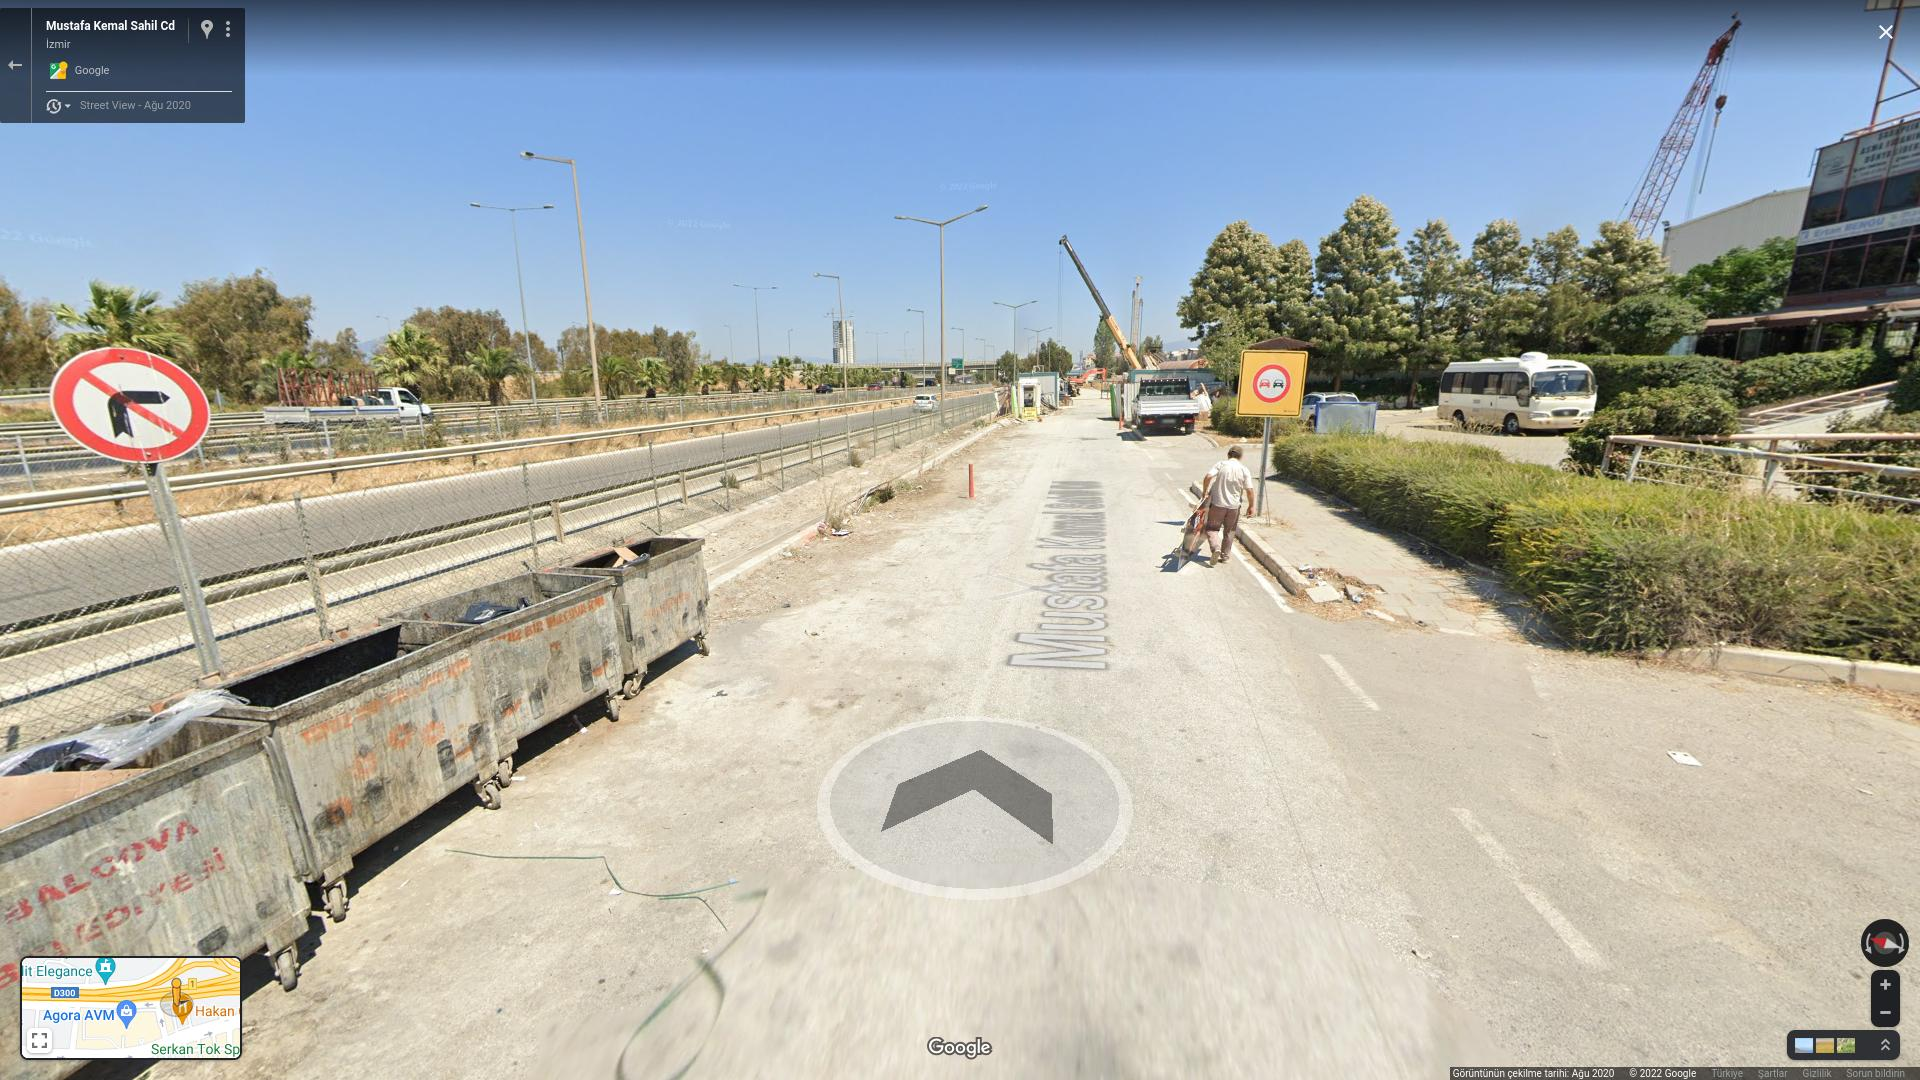rightturnsareforbidden: (57, 347, 212, 465)
